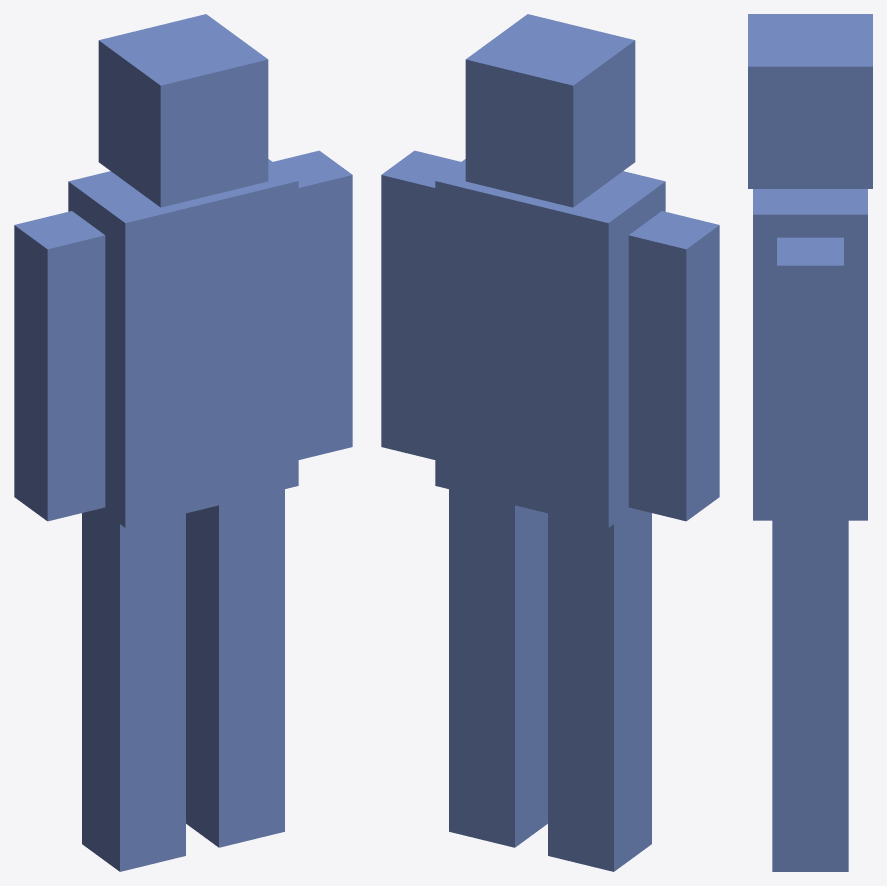
Rendered from mage.glb.
The picture shows the model from 3 angles, left to right: view 1: azimuth 30°, elevation 25°; view 2: azimuth 150°, elevation 25°; view 3: azimuth 270°, elevation 25°; orthographic projection.
Parts seen in each view (by area): view 1: mage; view 2: mage; view 3: mage.
Boxes of the visible parts, box(x1,y1,x2,y2) form: mage: box(14, 14, 352, 871); mage: box(381, 14, 719, 871); mage: box(748, 14, 872, 871).
Size of the model in its own units: 0.6808 by 1.68 by 0.24.
